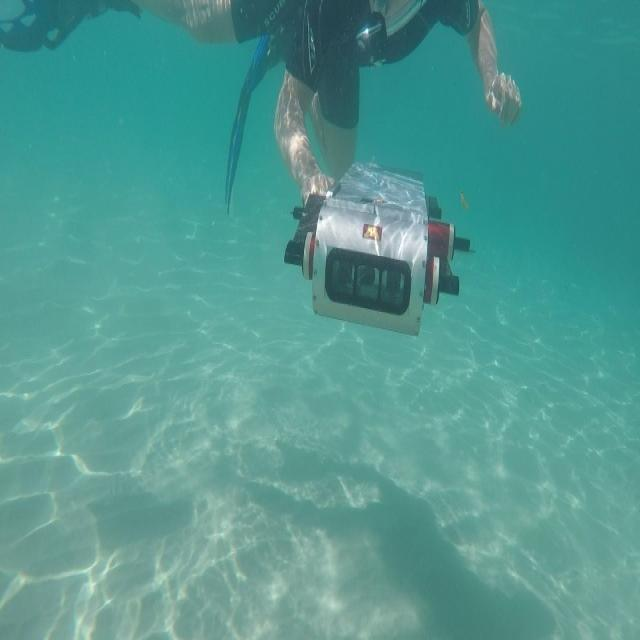human divers: (0, 1, 523, 216)
robots: (284, 158, 471, 337)
